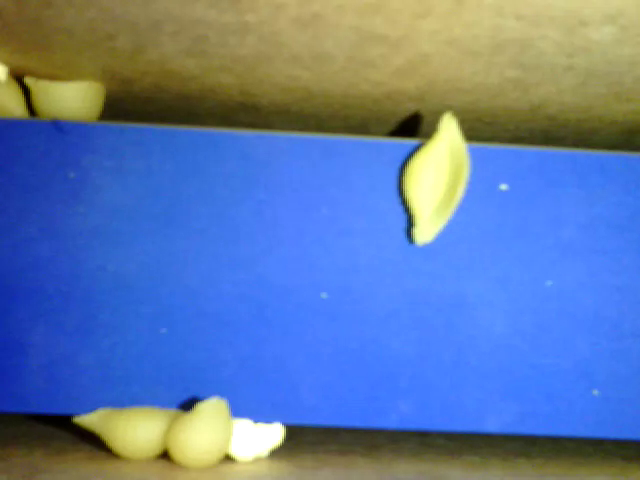shell: (393, 112, 473, 253), (76, 403, 189, 463), (165, 394, 233, 469), (25, 76, 106, 125)
